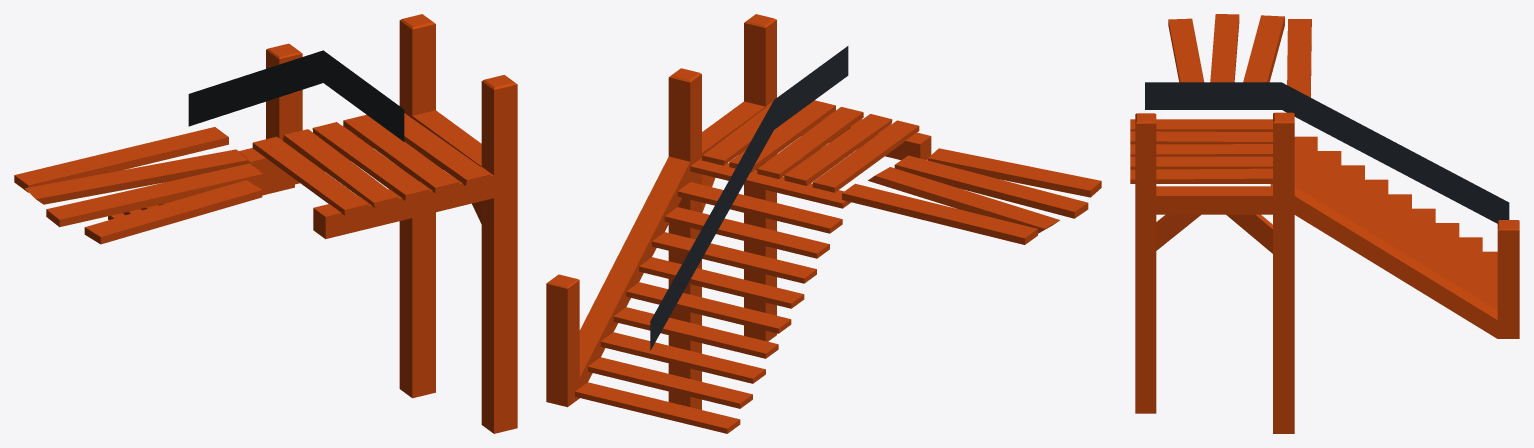
File: stairs.obj
3 renders of one model, left to right at view 1: azimuth 30°, elevation 25°; view 2: azimuth 150°, elevation 25°; view 3: azimuth 270°, elevation 25°, orthographic. The views are drawn at different scales.
Visible parts, largest first — view 1: Wood, Railing; view 2: Wood, Railing; view 3: Wood, Railing.
Part boxes in pixels (box(x1,y1,x2,y2)): Wood: box(14, 14, 517, 433); Railing: box(188, 50, 404, 141); Wood: box(546, 14, 1101, 433); Railing: box(650, 46, 848, 350); Wood: box(1130, 14, 1519, 433); Railing: box(1145, 82, 1509, 223).
Bounding box in the file's own units: 4.96 × 4.28 × 4.84.
